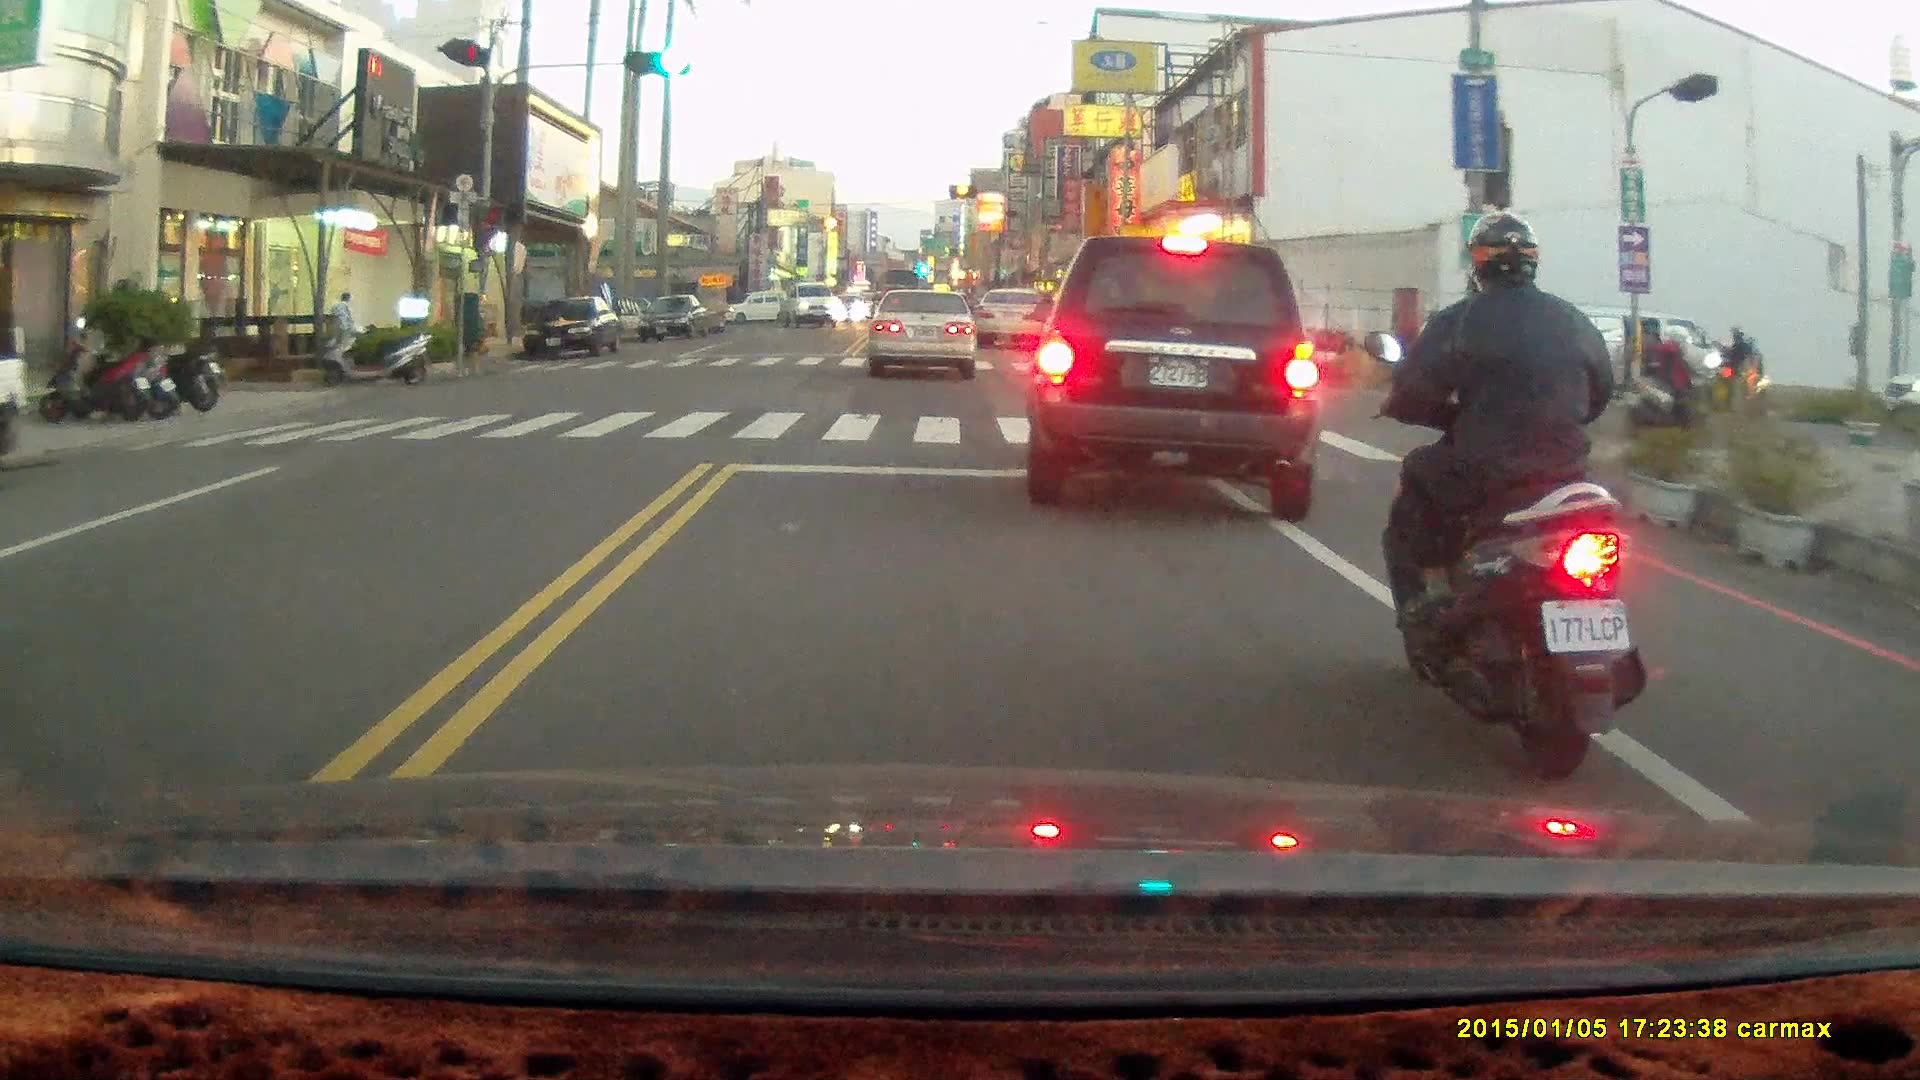pedestrian: (329, 292, 361, 358), (1637, 321, 1660, 396)
rider: (1356, 210, 1646, 780), (1622, 322, 1716, 448), (1687, 321, 1764, 420)
vehicle: (1026, 236, 1320, 525), (867, 294, 980, 390), (521, 299, 618, 363), (975, 287, 1056, 352), (1, 350, 36, 456), (634, 298, 709, 346), (780, 283, 840, 334)
